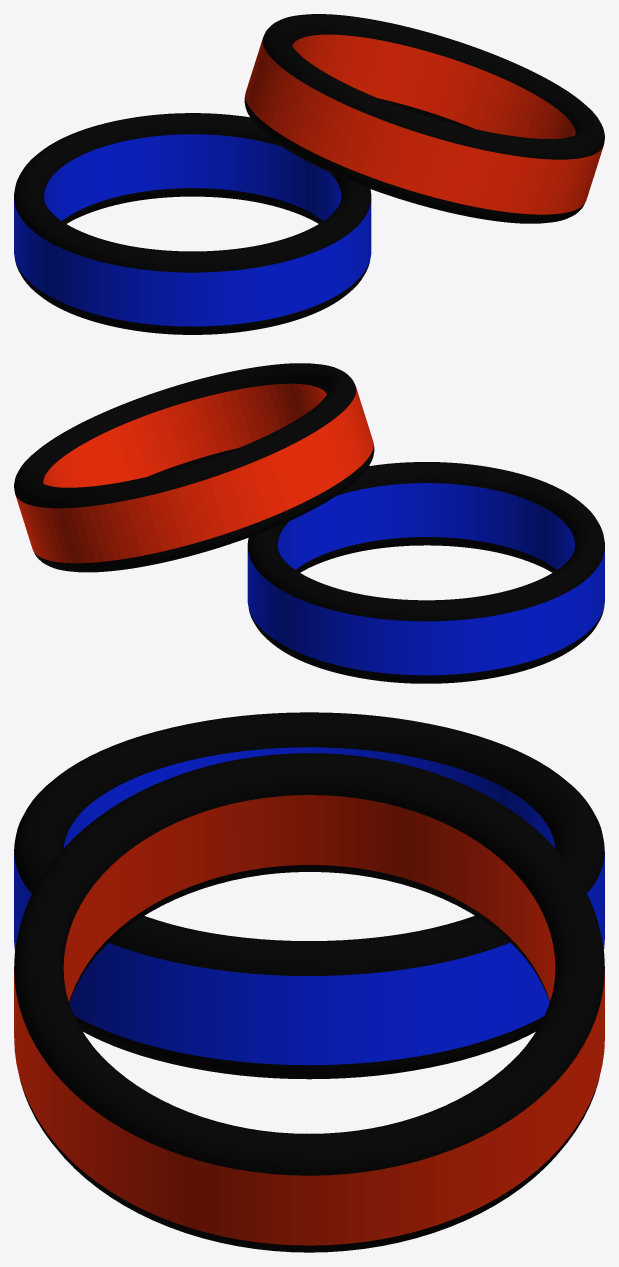
File: rings.obj
3 views of the same model, one above another, from view 1: azimuth 30°, elevation 25°; view 2: azimuth 150°, elevation 25°; view 3: azimuth 270°, elevation 25° (orthographic). The views are drawn at different scales.
Visible parts, largest first — view 1: [Color M08], [Color I04], [Color C04]; view 2: [Color M08], [Color I04], [Color C04]; view 3: [Color M08], [Color C04], [Color I04].
Part boxes in pixels (x1=…): [Color M08]: x1=14, y1=14, x2=604, y2=334; [Color I04]: x1=14, y1=134, x2=371, y2=326; [Color C04]: x1=245, y1=34, x2=603, y2=214; [Color M08]: x1=14, y1=363, x2=604, y2=683; [Color I04]: x1=247, y1=483, x2=604, y2=675; [Color C04]: x1=15, y1=383, x2=373, y2=563; [Color M08]: x1=14, y1=712, x2=604, y2=1252; [Color C04]: x1=14, y1=795, x2=604, y2=1245; [Color I04]: x1=14, y1=747, x2=604, y2=1065.
Bounding box in the file's own units: 1.66 × 0.5194 × 0.9465.
